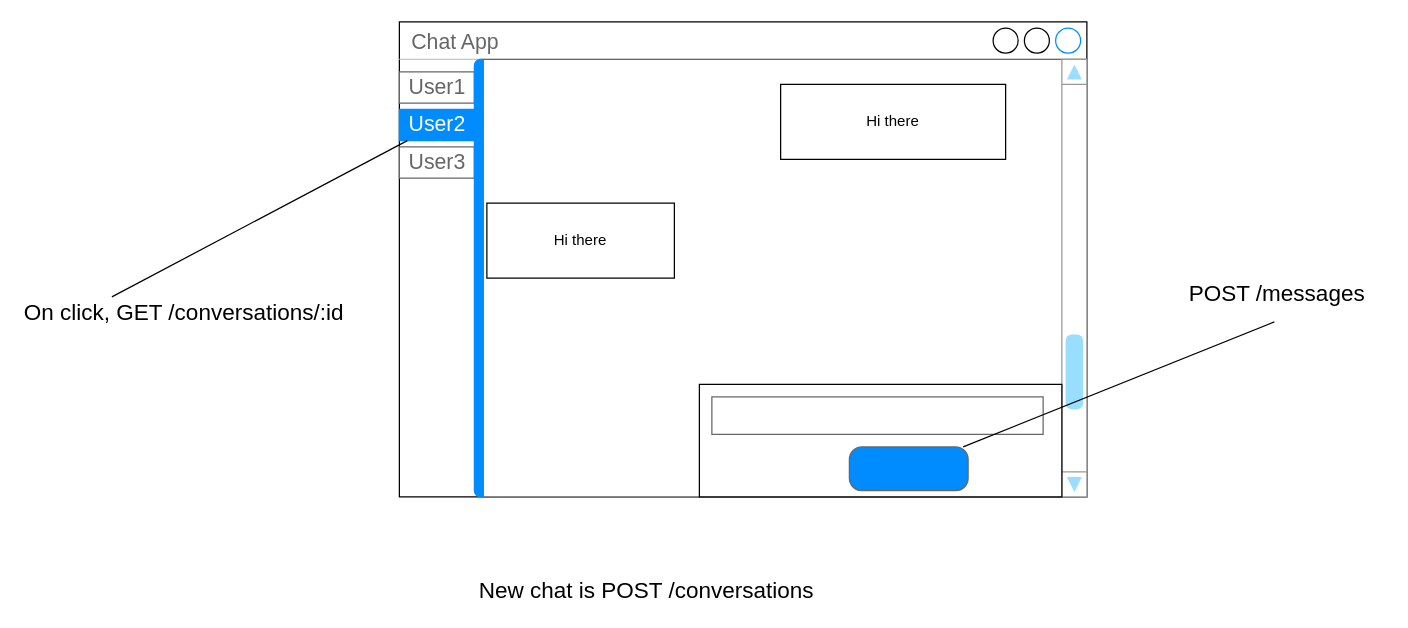
Image size: 1408x628. Some labels were removed from this diagram. The shapes that lost their labels are listed below. From the top down, each one's centre as x and y in pixels, then its label:
At pixel 877 415: "Line 1".
At pixel 908 468: "Send".
